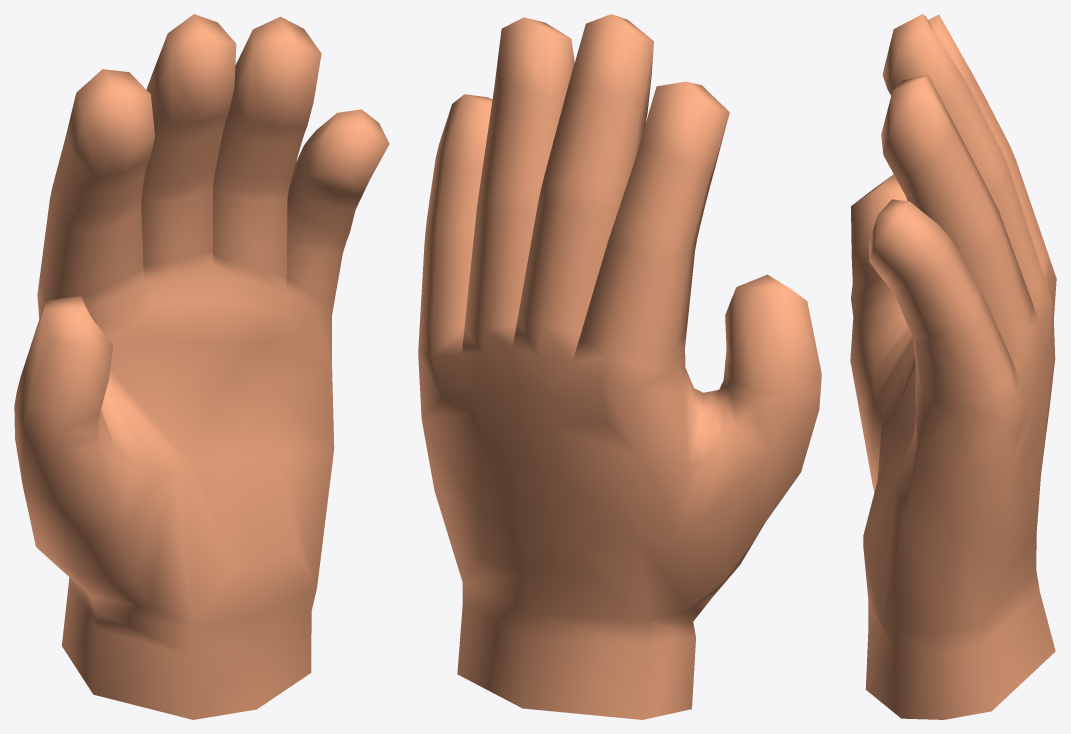
Rendered from hand[1].glb.
3 views of the same model, side by side, from view 1: azimuth 30°, elevation 25°; view 2: azimuth 150°, elevation 25°; view 3: azimuth 270°, elevation 25° (orthographic). The views are drawn at different scales.
Parts seen in each view (by area): view 1: Hand.003; view 2: Hand.003; view 3: Hand.003.
Part boxes in pixels (bbox=[...]): Hand.003: bbox=[14, 14, 389, 719]; Hand.003: bbox=[418, 14, 821, 719]; Hand.003: bbox=[850, 14, 1056, 719].
Bounding box in the file's own units: 1.59 × 2.86 × 0.8095.
